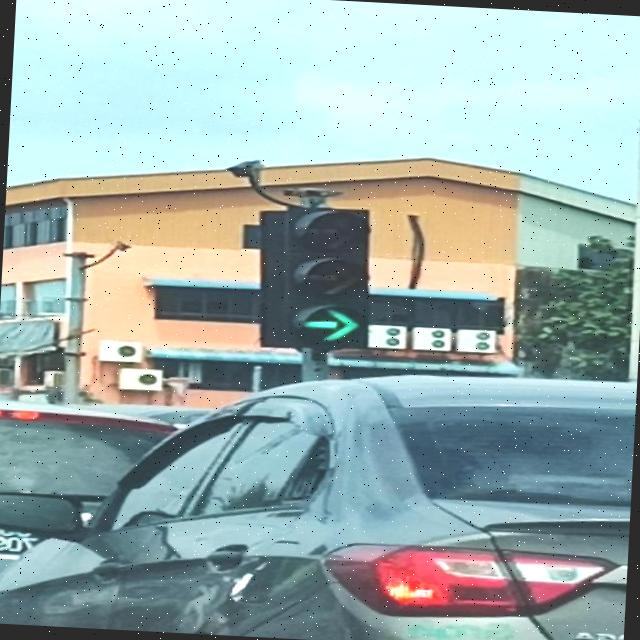green_light: (284, 204, 374, 352)
